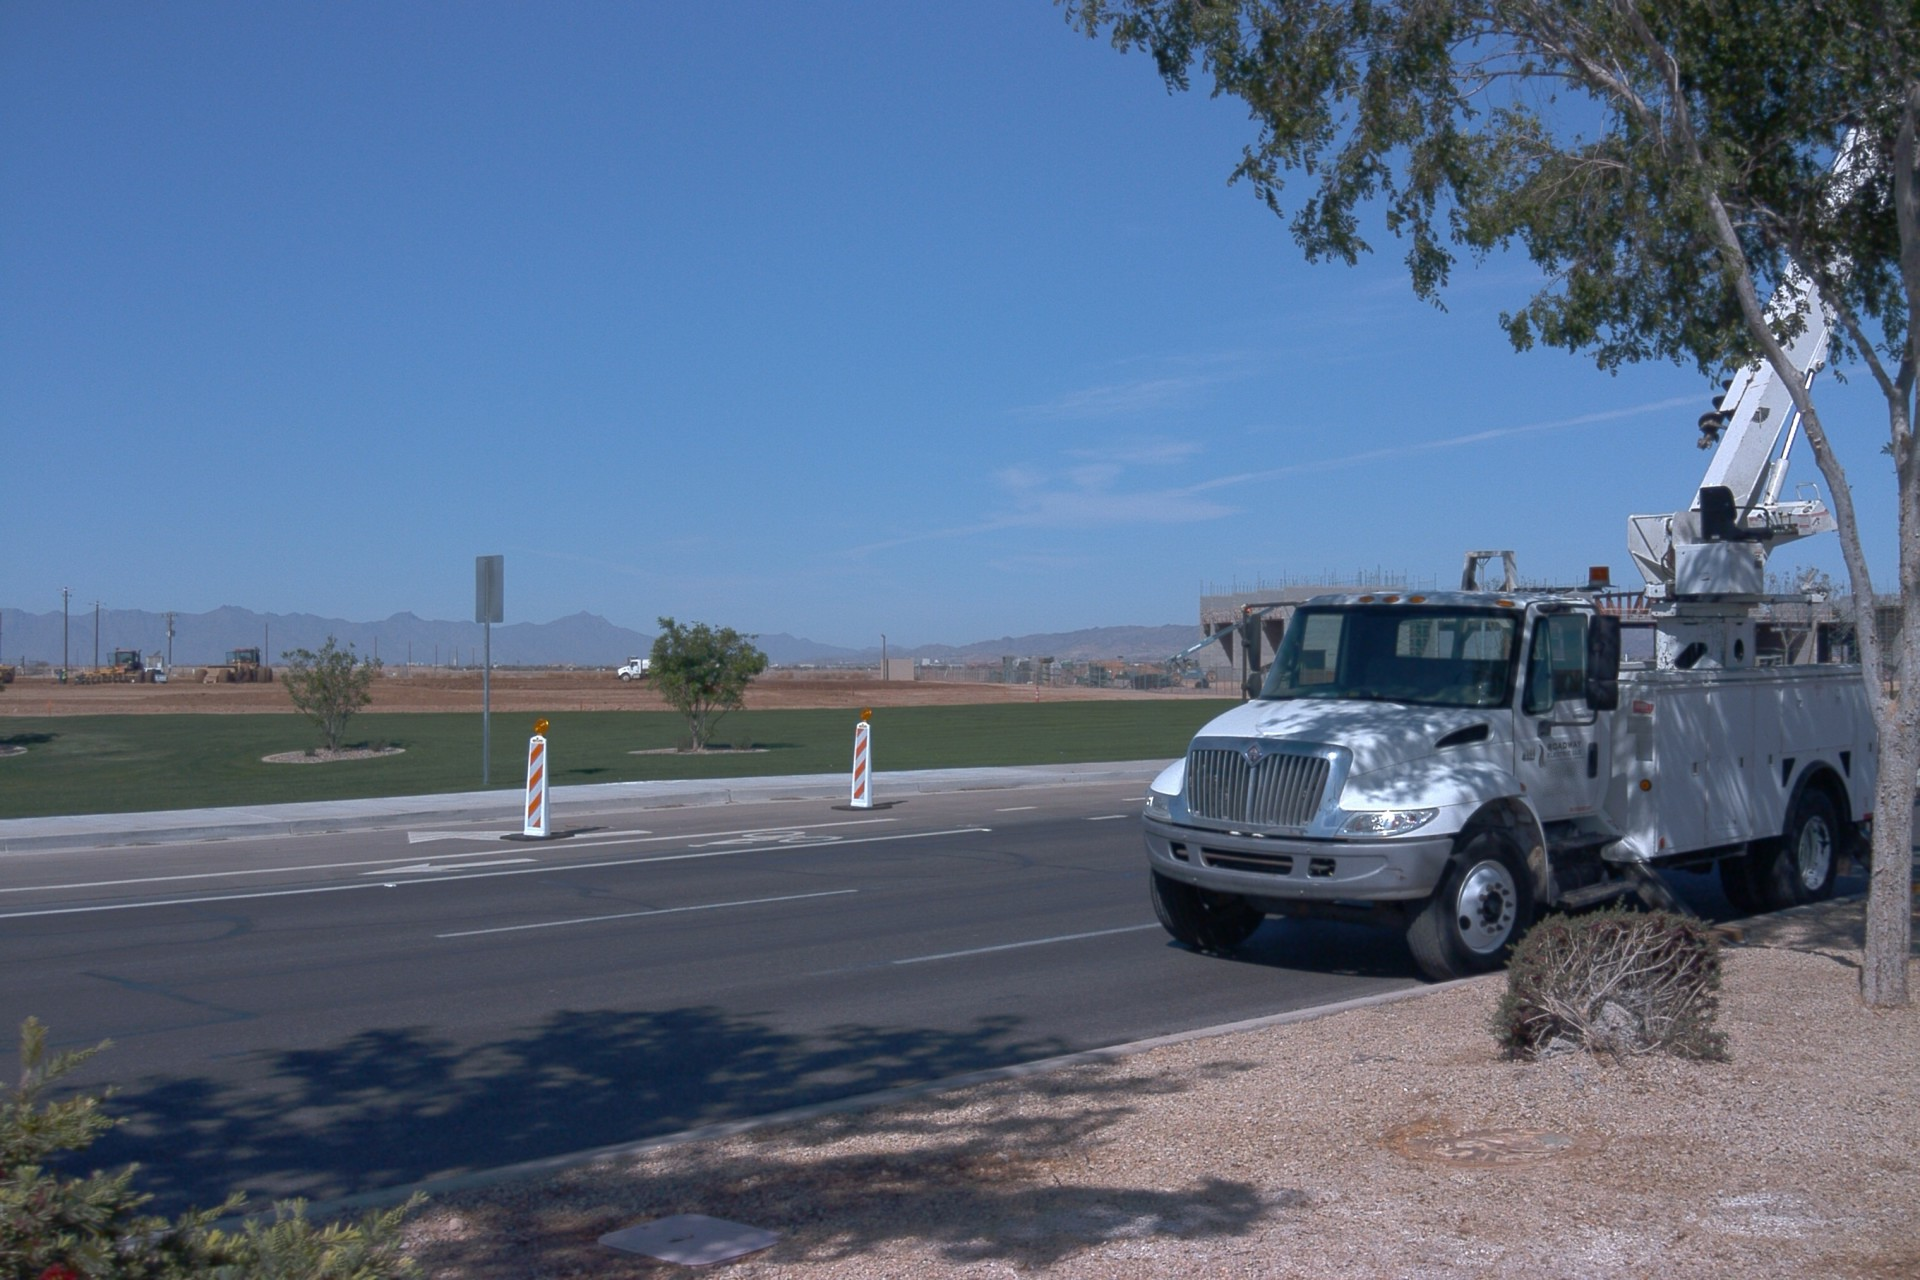TYPE_PEDESTRIAN: (59, 669, 67, 685)
TYPE_VEHICLE: (1137, 93, 1920, 984), (1163, 605, 1287, 685), (615, 650, 688, 689), (145, 669, 167, 690), (0, 666, 13, 683)
